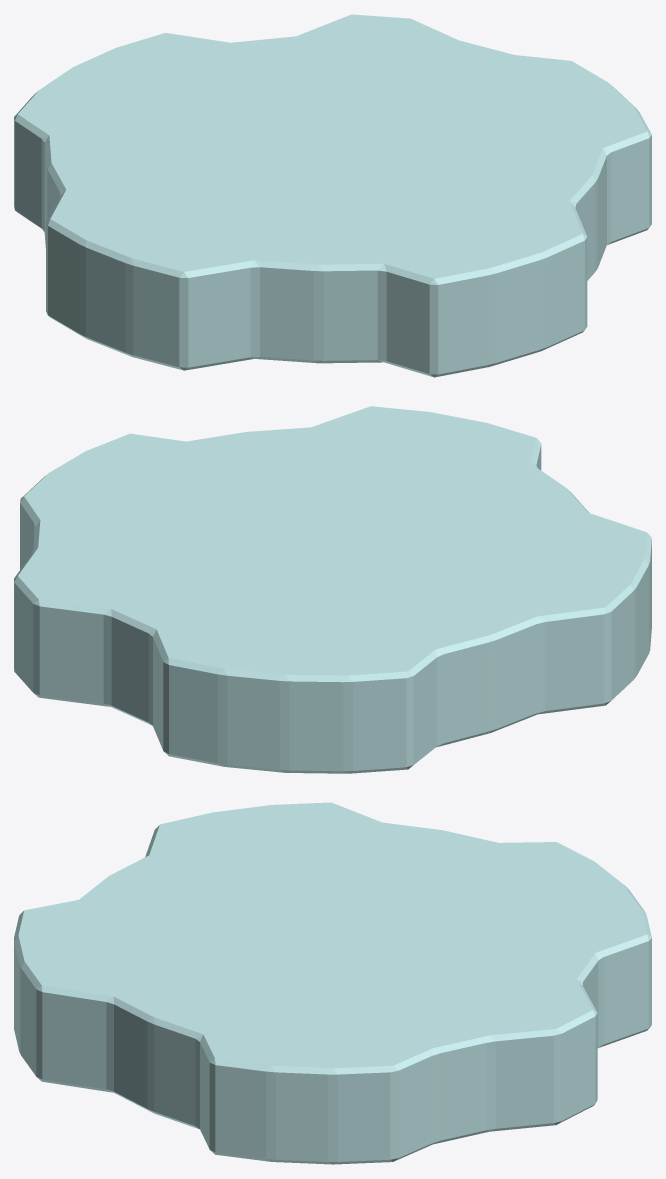
File: Ice rock.fbx
The picture shows the model from 3 angles, top to bottom: view 1: azimuth 30°, elevation 25°; view 2: azimuth 150°, elevation 25°; view 3: azimuth 270°, elevation 25°; orthographic projection. The views are drawn at different scales.
Visible parts, largest first — view 1: Cylinder; view 2: Cylinder; view 3: Cylinder.
Part boxes in pixels (x1,y1,x2,y2): Cylinder: (14, 14, 651, 377); Cylinder: (14, 406, 651, 773); Cylinder: (14, 802, 651, 1164).
Bounding box in the file's own units: 200 × 33.25 × 200.
